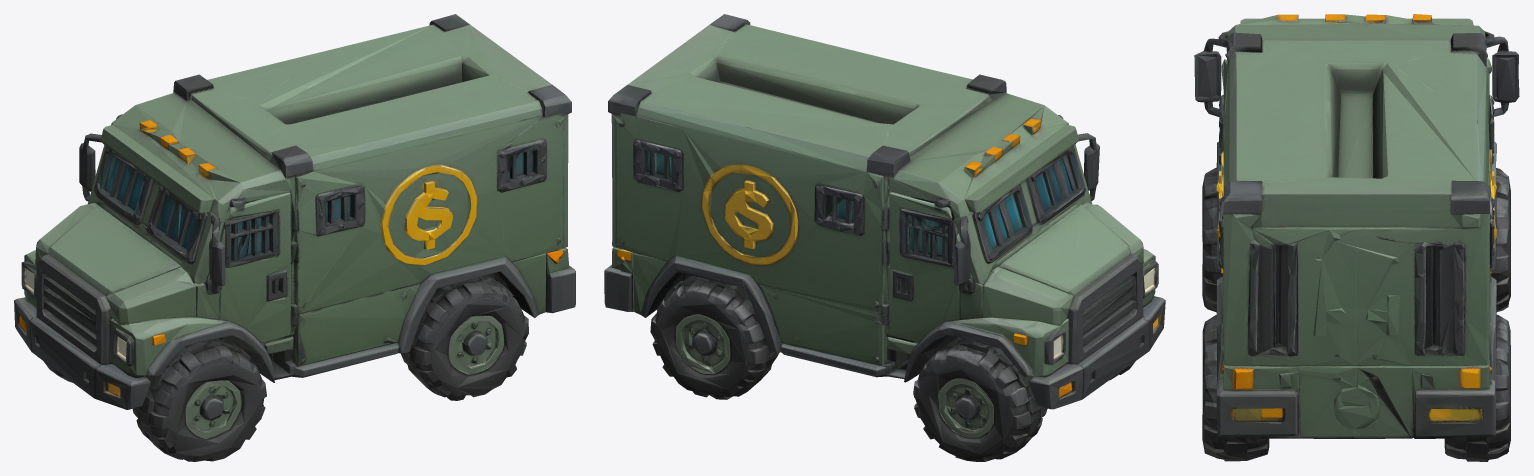
The model's file is bank_truck.glb.
3 renders of one model, left to right at view 1: azimuth 30°, elevation 25°; view 2: azimuth 150°, elevation 25°; view 3: azimuth 270°, elevation 25°, orthographic. The views are drawn at different scales.
Visible parts, largest first — view 1: geometry_0; view 2: geometry_0; view 3: geometry_0.
Boxes of the visible parts, x1,y1,x2,y2 form: geometry_0: (14,14,575,461); geometry_0: (604,14,1165,461); geometry_0: (1194,14,1519,461).
Bounding box in the file's own units: 1.9 × 1.09 × 1.02.
Materials: 1 (1 with a texture image).
